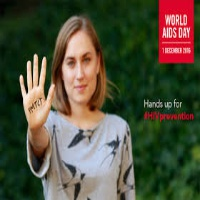ring: (26, 58, 33, 95)
